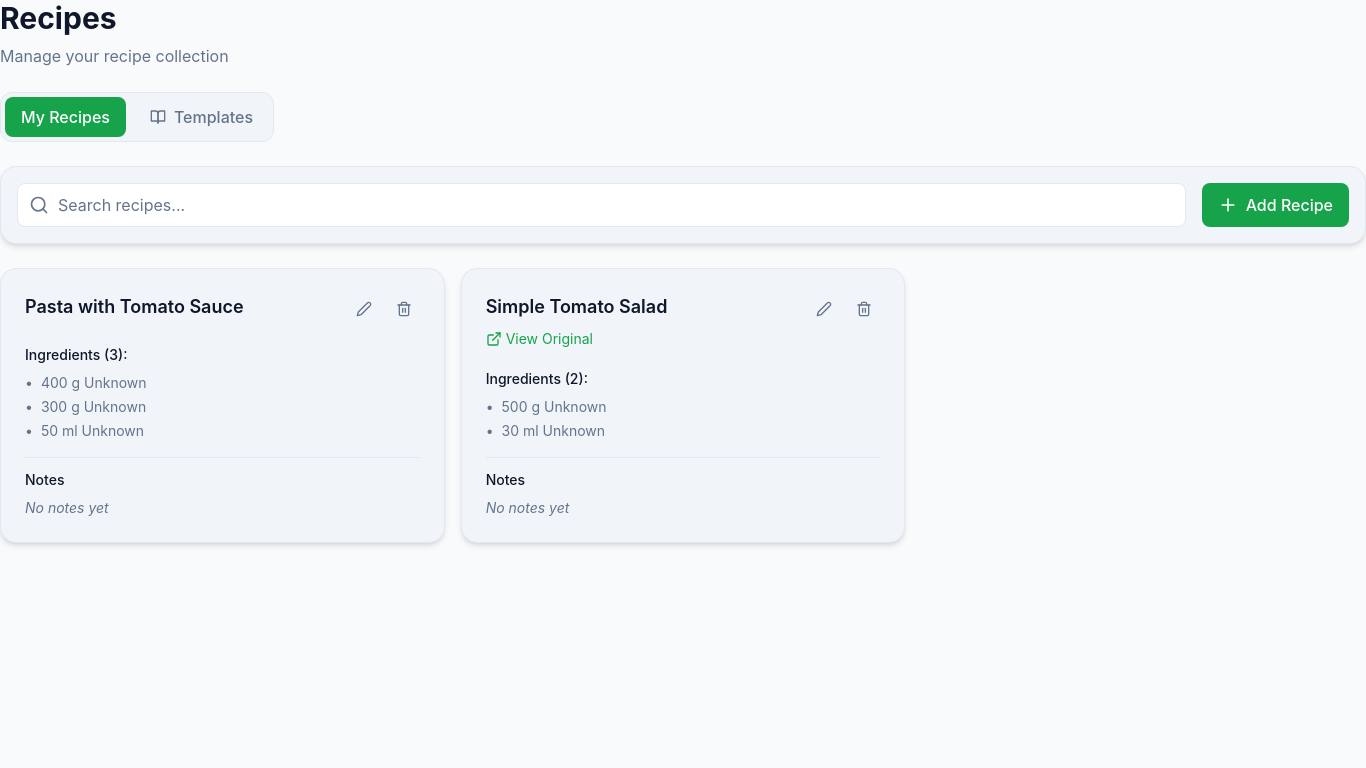
Scenario: Recipes Page User Interface › opens edit form with pre-filled data
expect the heading "Pasta with Tomato Sauce" is shown: met, box [25,296,244,317]
Note: Click edit button
Click the button named "edit recipe" next to "Pasta with Tomato Sauce".
click(364, 309)  # box [348,293,380,325]
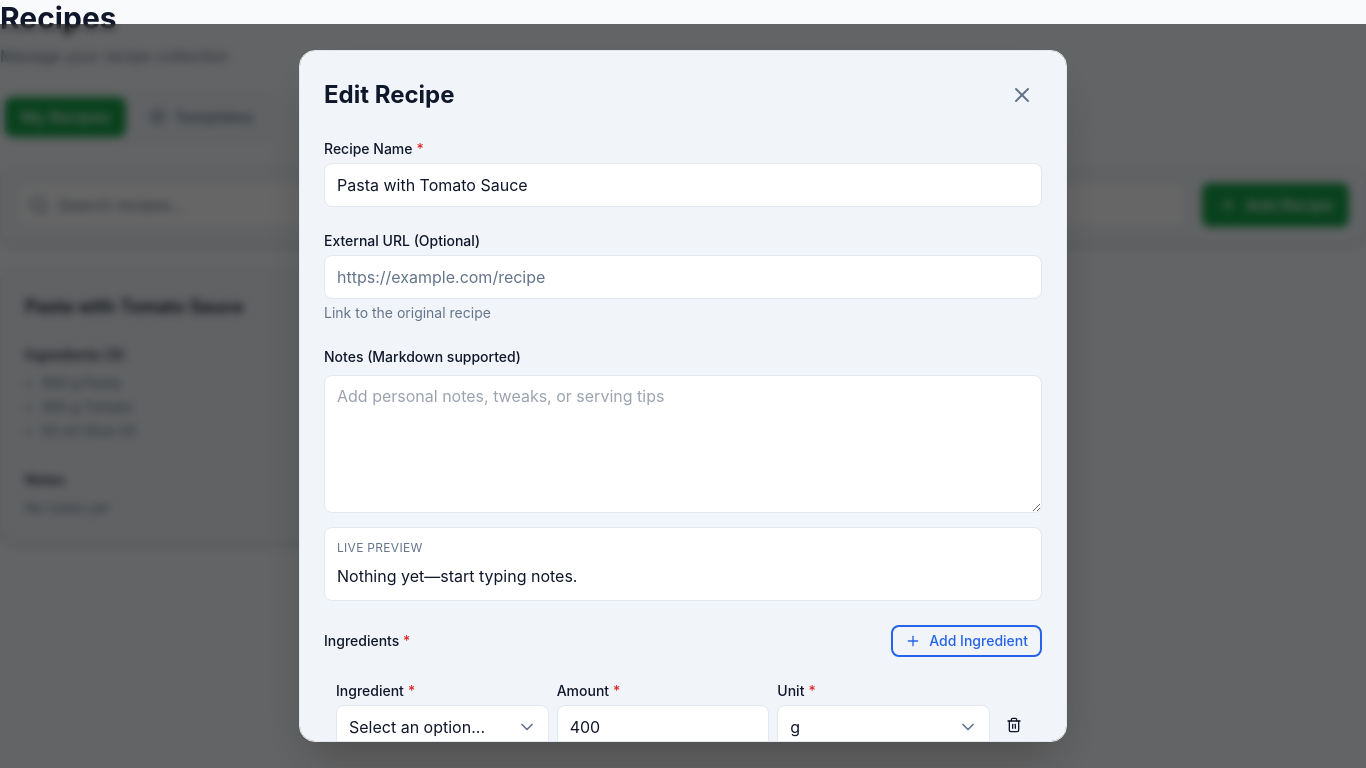
expect the heading "Edit Recipe" is shown: met, box [324,79,454,111]
expect the field showing "Pasta with Tomato Sauce" is shown: met, box [324,163,1042,207]
